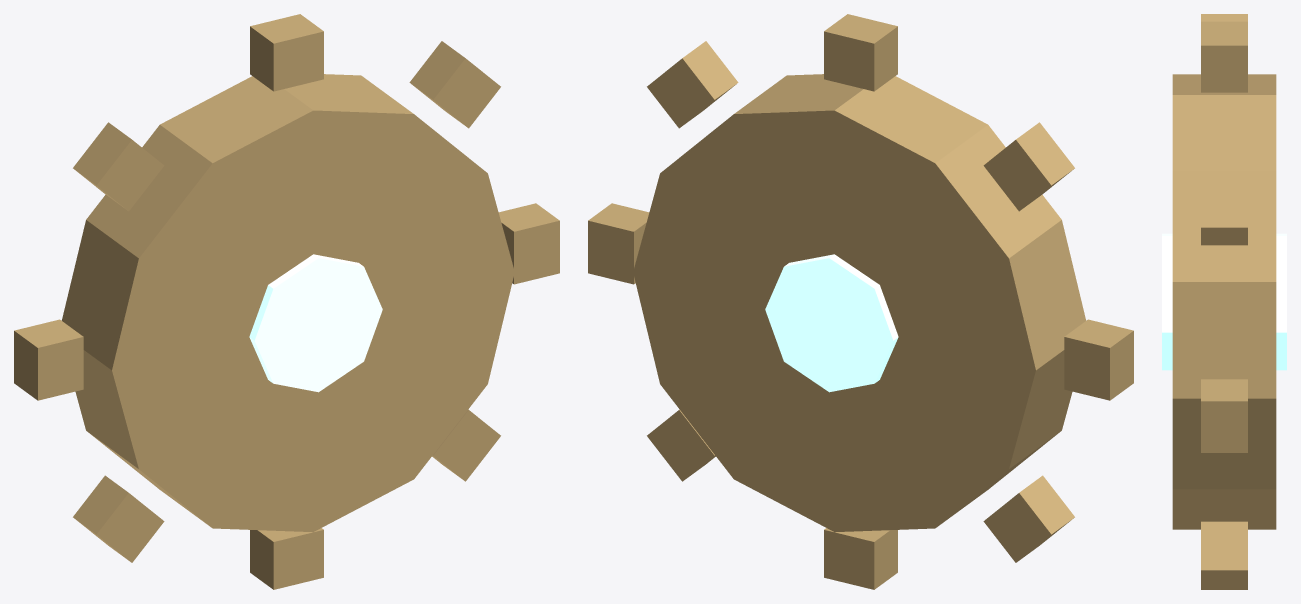
The model's file is gear.glb.
3 renders of one model, left to right at view 1: azimuth 30°, elevation 25°; view 2: azimuth 150°, elevation 25°; view 3: azimuth 270°, elevation 25°, orthographic.
Parts seen in each view (by area): view 1: gear; view 2: gear; view 3: gear.
Boxes of the visible parts, x1,y1,x2,y2 form: gear: (14,14,559,589); gear: (588,14,1133,589); gear: (1162,14,1286,589).
Size of the model in its own units: 0.285 by 0.285 by 0.06.
